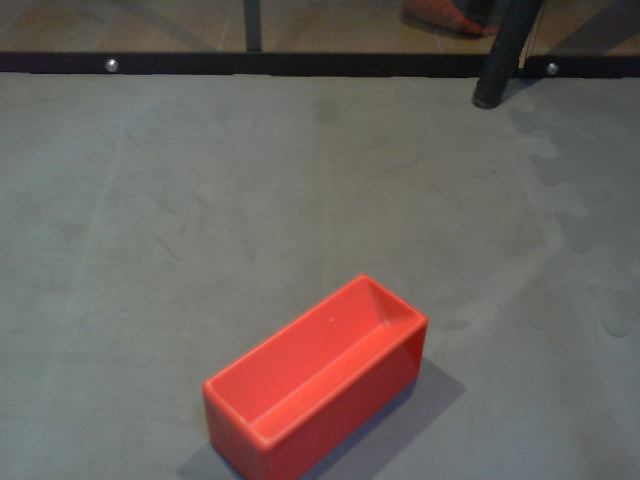RedSample: (200, 270, 430, 480)
